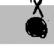not correct: (24, 0, 50, 40)
